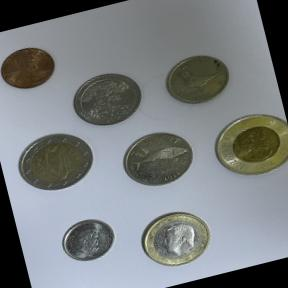coin: (196, 96, 288, 190), (7, 123, 102, 202), (131, 198, 225, 276), (112, 120, 204, 198), (62, 60, 152, 136), (0, 34, 66, 99), (54, 210, 124, 270)
